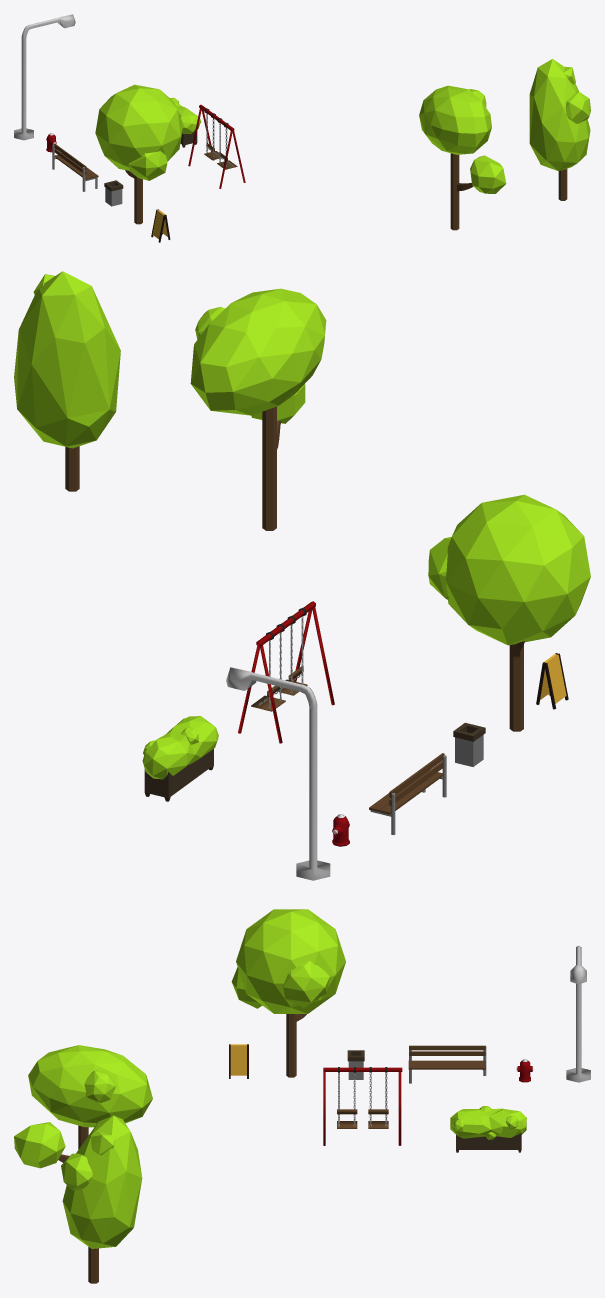
File: Props_Cidade (3).fbx
3 views of the same model, one above another, from view 1: azimuth 30°, elevation 25°; view 2: azimuth 150°, elevation 25°; view 3: azimuth 270°, elevation 25° (orthographic). The views are drawn at different scales.
Parts seen in each view (by area): view 1: arvore_1, Arvore_2, Arvore_3, Balanco, Poste, Banco, Arbusto, lixo, Placa; view 2: arvore_1, Arvore_2, Arvore_3, Arbusto, Poste, Balanco, Banco, lixo, Placa; view 3: arvore_1, Arvore_2, Arvore_3, Arbusto, Balanco, Banco, Poste, Placa.
Boxes of the visible parts, x1,y1,x2,y2 form: arvore_1: (95, 84, 183, 224); Arvore_2: (419, 85, 506, 230); Arvore_3: (529, 59, 590, 200); Balanco: (188, 104, 245, 188); Poste: (14, 14, 75, 140); Banco: (52, 143, 98, 191); Arbusto: (170, 97, 201, 147); lixo: (104, 180, 123, 206); Placa: (151, 209, 170, 242); arvore_1: (428, 494, 590, 731); Arvore_2: (190, 288, 326, 530); Arvore_3: (14, 271, 120, 491); Arbusto: (142, 716, 218, 801); Poste: (226, 667, 330, 880); Balanco: (238, 601, 334, 743); Banco: (369, 753, 446, 834); lixo: (453, 722, 485, 766); Placa: (536, 653, 568, 709); arvore_1: (231, 909, 345, 1077); Arvore_2: (14, 1045, 152, 1168); Arvore_3: (61, 1115, 142, 1283); Arbusto: (450, 1106, 526, 1152); Balanco: (323, 1067, 402, 1145); Banco: (408, 1045, 486, 1083); Poste: (566, 945, 590, 1082); Placa: (229, 1044, 248, 1078).
Bounding box in the file's own units: 104 × 33.83 × 104.
